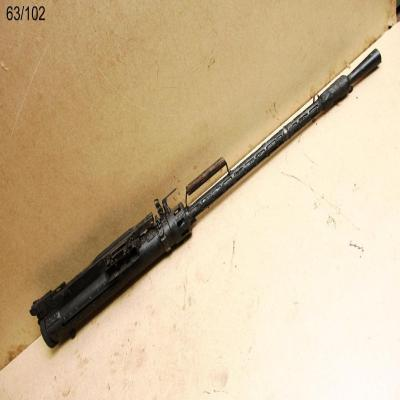weapon: (30, 50, 382, 349)
